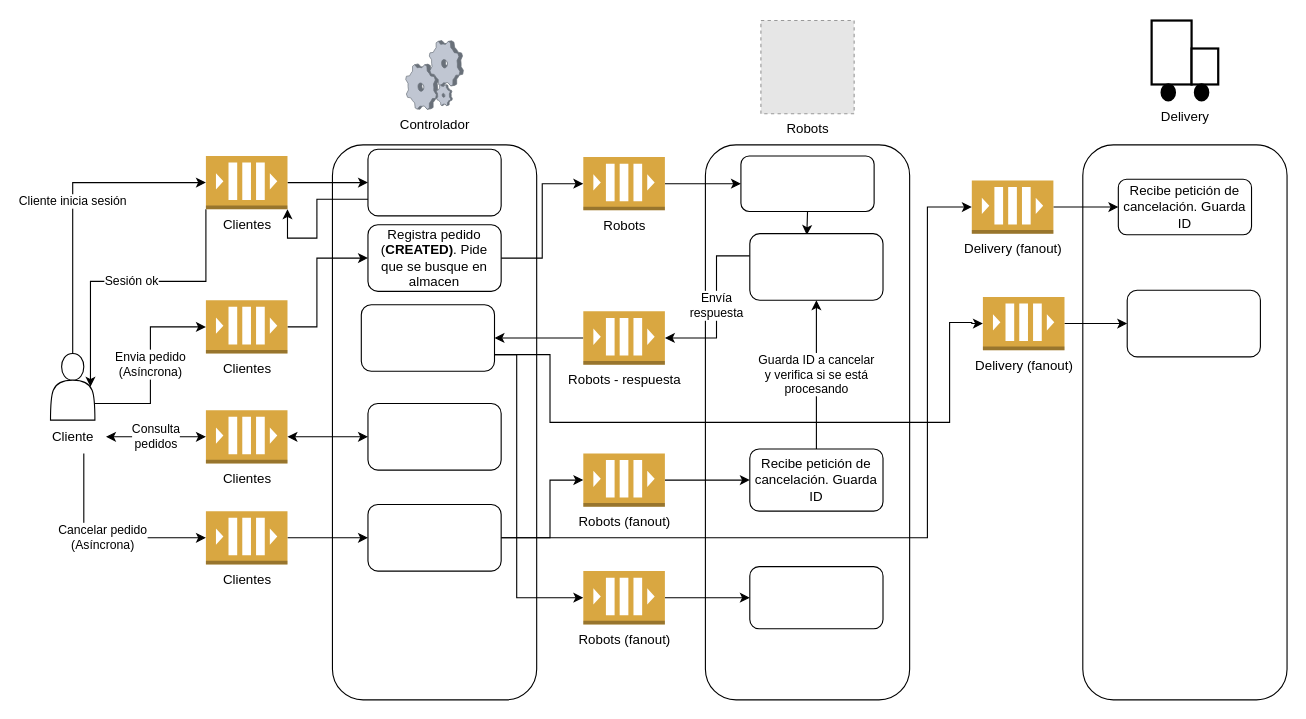
Some shapes in this 1306 by 719 pixel diagram are drawn without their labels. Grey dashed boxes stand in for pictures. The centre of each missing label's shape, as x and y in pixels:
"Credenciales correctas. Envia info de usuario" goes at pixel 434 182.
"Empieza búsqueda... Cancela búsqueda ( CANCELLED )" goes at pixel 816 266.
"Envia información del estado actual" goes at pixel 434 436.
"Recibe cancelación correcta. Borra ID" goes at pixel 1193 323.
"Recibe cancelación correcta.Borra ID" goes at pixel 816 597.
"Recibe petición de búsqueda ( PROCESSING)" goes at pixel 807 183.
"Recibe petición. Envía cancelaciones correspondientes" goes at pixel 434 537.
"Registra evento. Comparte la información de cancelación exitosa" goes at pixel 427 337.
